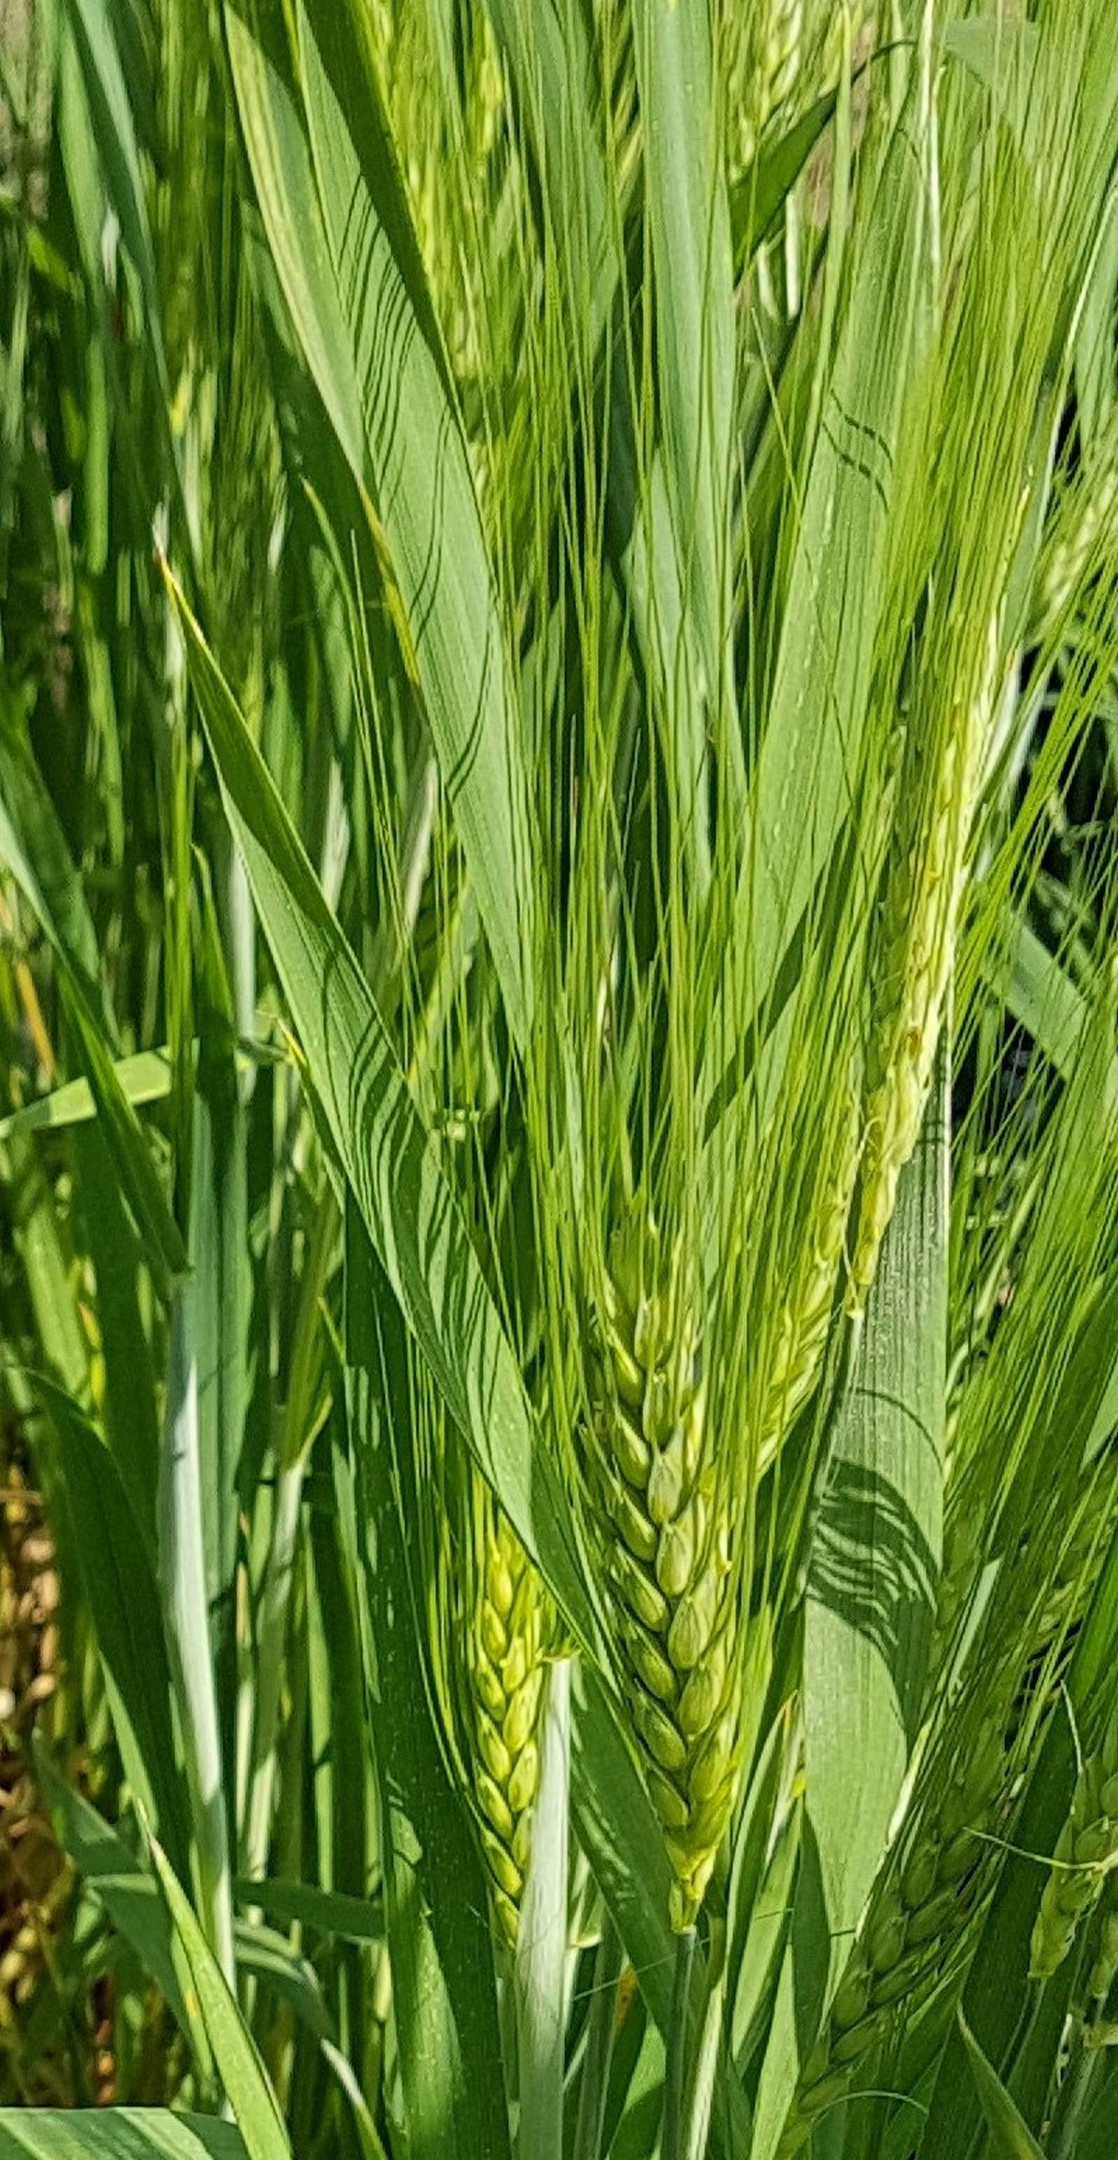Healthy Wheat: (578, 1285, 749, 1883)
